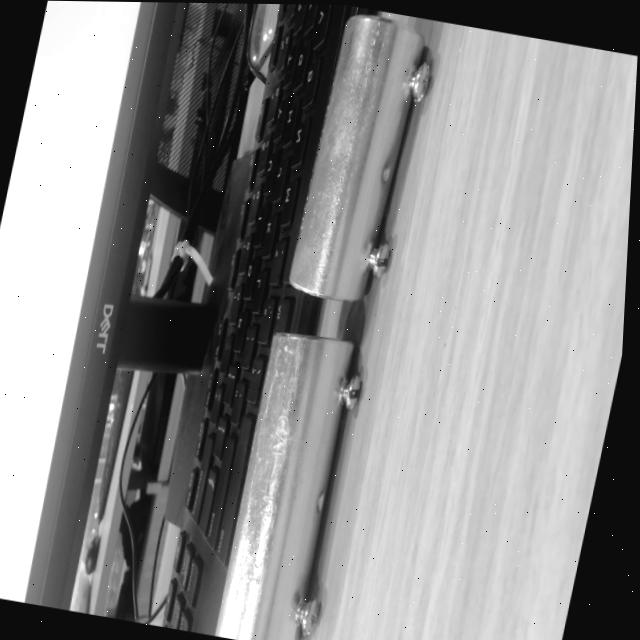Co_Lon: (214, 325, 369, 640)
Co_Nho: (284, 8, 437, 310)
